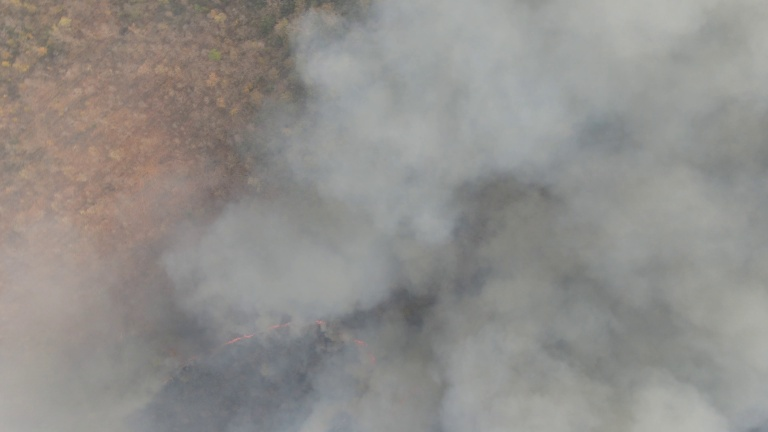fire: (207, 322, 384, 373)
smoke: (378, 21, 768, 419), (189, 1, 622, 301), (10, 285, 145, 417)
